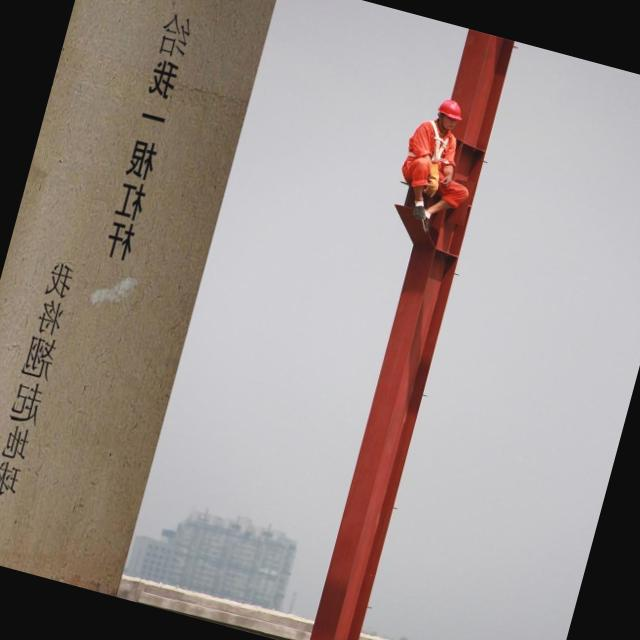helmet: (432, 92, 471, 134)
